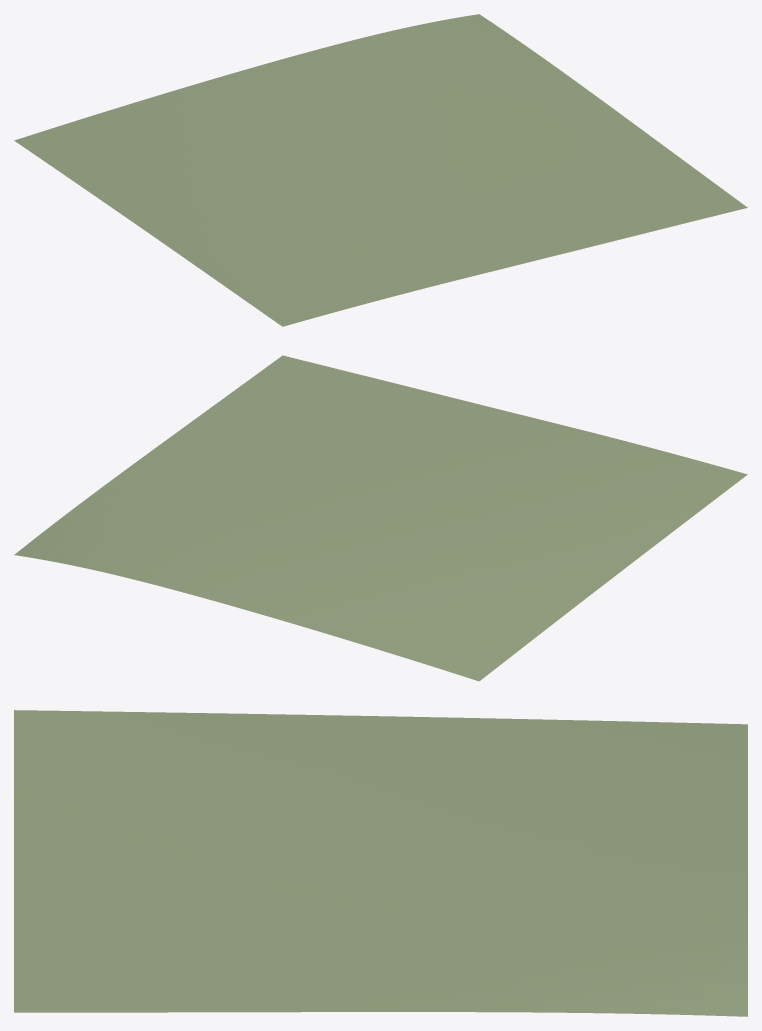
The model's file is desert-12-24.glb.
3 renders of one model, top to bottom at view 1: azimuth 30°, elevation 25°; view 2: azimuth 150°, elevation 25°; view 3: azimuth 270°, elevation 25°, orthographic. The views are drawn at different scales.
Visible parts, largest first — view 1: desert-12-24; view 2: desert-12-24; view 3: desert-12-24.
Part boxes in pixels (box(x1,y1,x2,y2)): desert-12-24: box(14, 14, 747, 326); desert-12-24: box(14, 355, 747, 681); desert-12-24: box(14, 710, 747, 1016).
Bounding box in the file's own units: 512 × 18.81 × 512.
